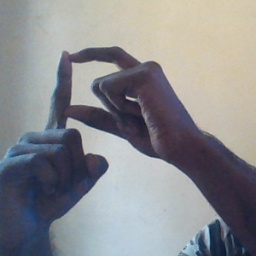D: (37, 37, 159, 171)
